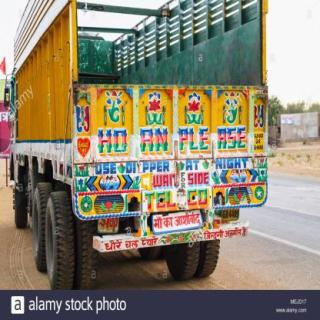Normal_vehicle: (1, 1, 283, 288)
